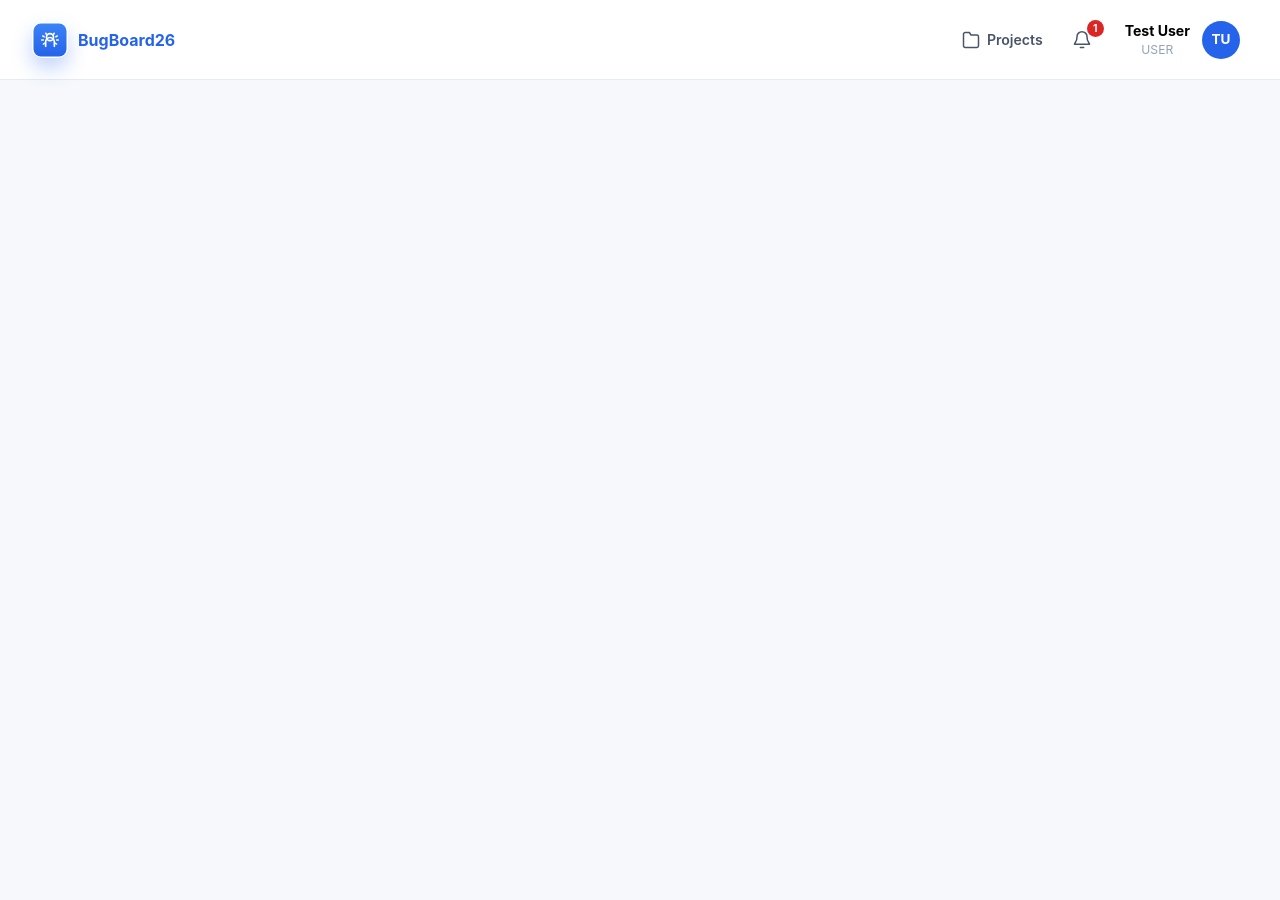
Test case: notifications display the issue title and keep the issue link
Click the button named "Notifications". click: (1082, 40)
box: [1065,23,1099,57]
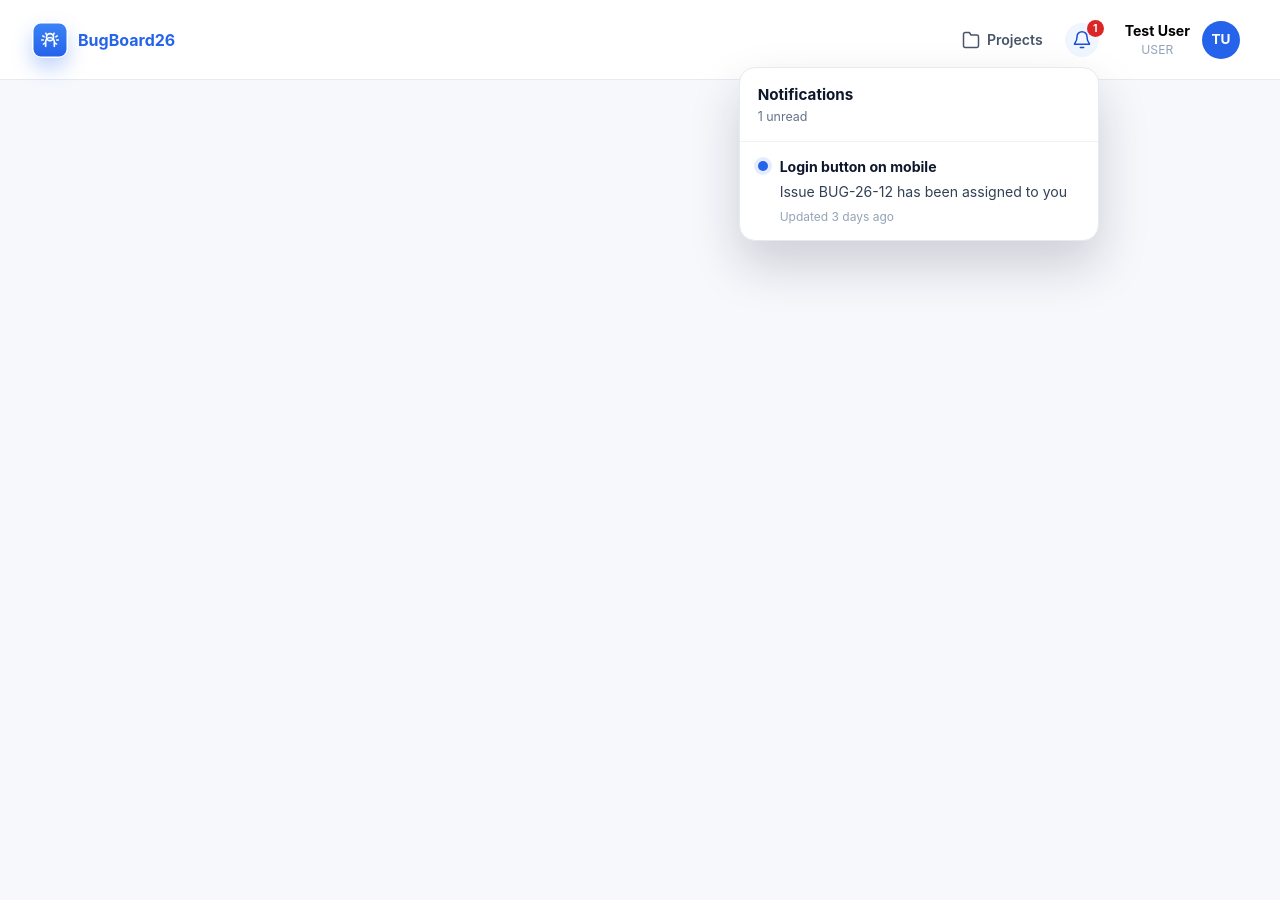
Now the text "Login button on mobile" is shown, box [780,158,936,175]
Now the text "Issue BUG-26-12 has been assigned to you" is shown, box [780,181,1080,202]
